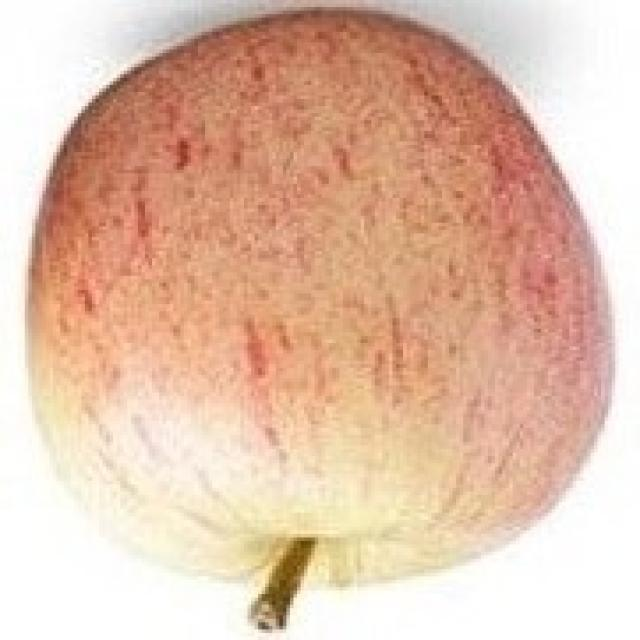75-_ripeness: (22, 12, 616, 585)
